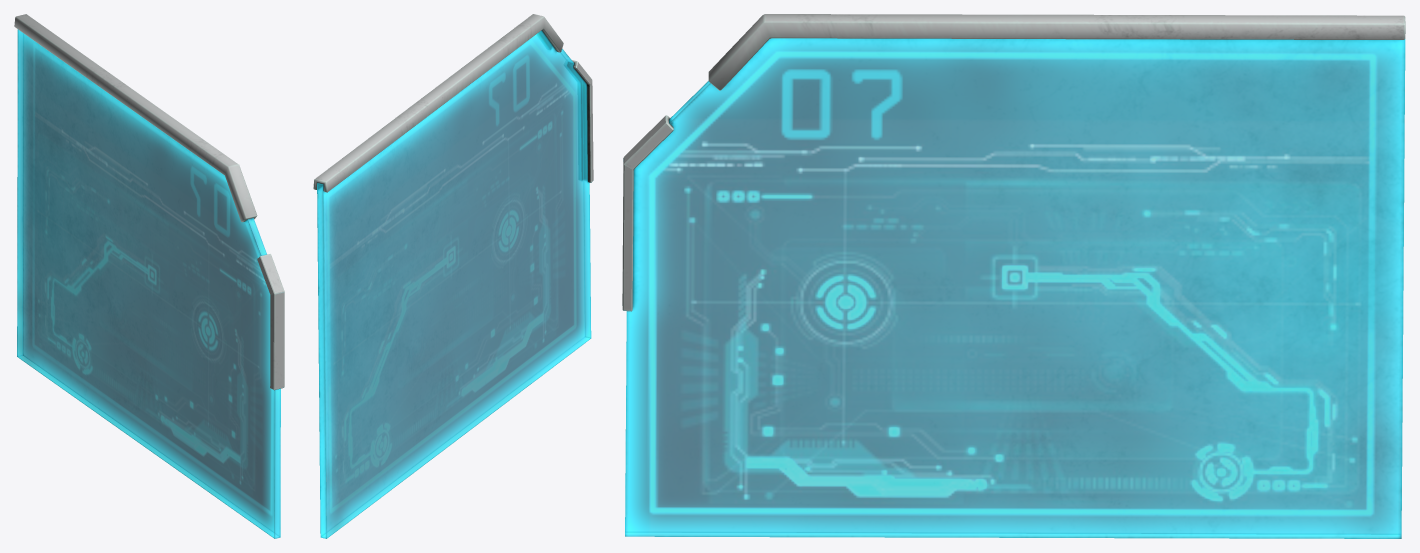
Rendered from separacion.glb.
3 renders of one model, left to right at view 1: azimuth 30°, elevation 25°; view 2: azimuth 150°, elevation 25°; view 3: azimuth 270°, elevation 25°, orthographic. The views are drawn at different scales.
Parts seen in each view (by area): view 1: Object_19; view 2: Object_19; view 3: Object_19.
Boxes of the visible parts, x1=… form: Object_19: x1=14, y1=14, x2=284, y2=538; Object_19: x1=313, y1=14, x2=593, y2=538; Object_19: x1=622, y1=14, x2=1405, y2=538.
Bounding box in the file's own units: 0.1426 × 2.8 × 3.8.
1 material, 1 textured.
